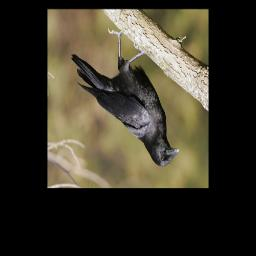Crow: (71, 25, 182, 168)
